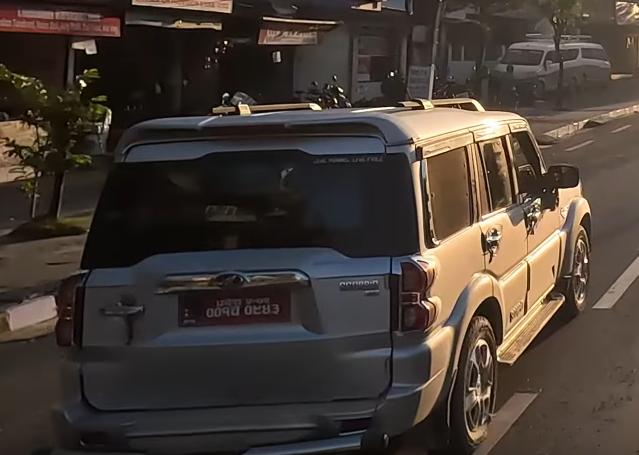SUV: (74, 92, 597, 455)
